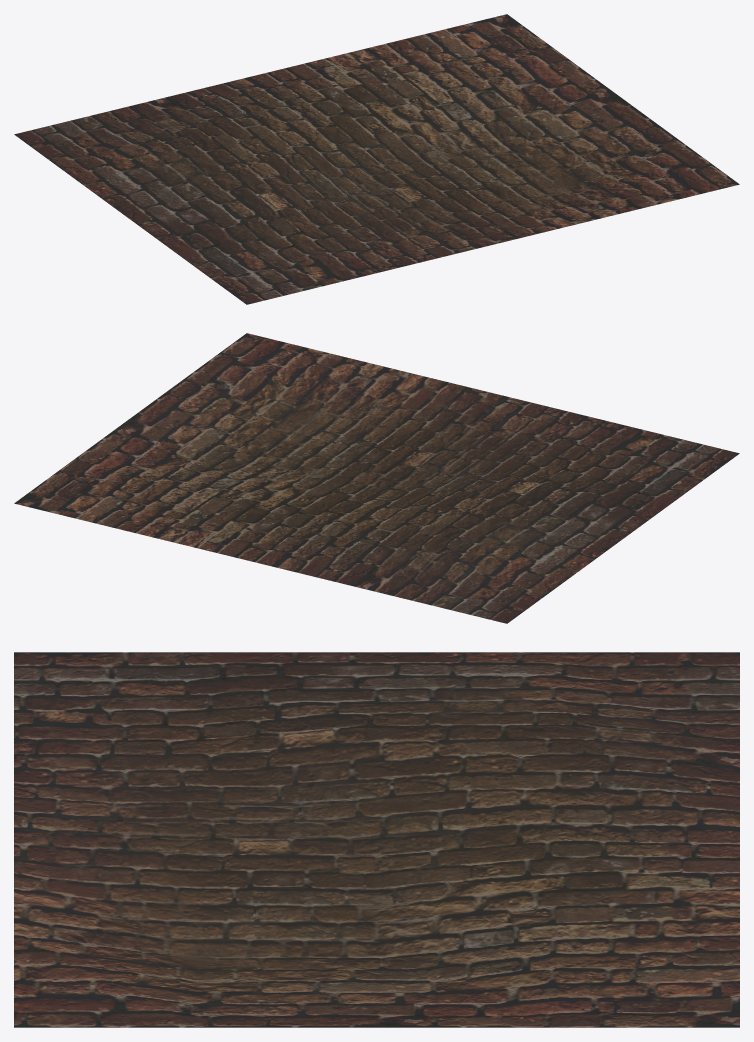
File: BrickFloor_6.FBX
3 renders of one model, top to bottom at view 1: azimuth 30°, elevation 25°; view 2: azimuth 150°, elevation 25°; view 3: azimuth 270°, elevation 25°, orthographic. The views are drawn at different scales.
Visible parts, largest first — view 1: BrickFloor_6; view 2: BrickFloor_6; view 3: BrickFloor_6.
Part boxes in pixels (x1,y1,x2,y2): BrickFloor_6: (14,14,739,304); BrickFloor_6: (14,333,739,623); BrickFloor_6: (14,652,739,1027).
Size of the model in its own units: 7919 by 396 by 6476.
1 material, 1 textured.
